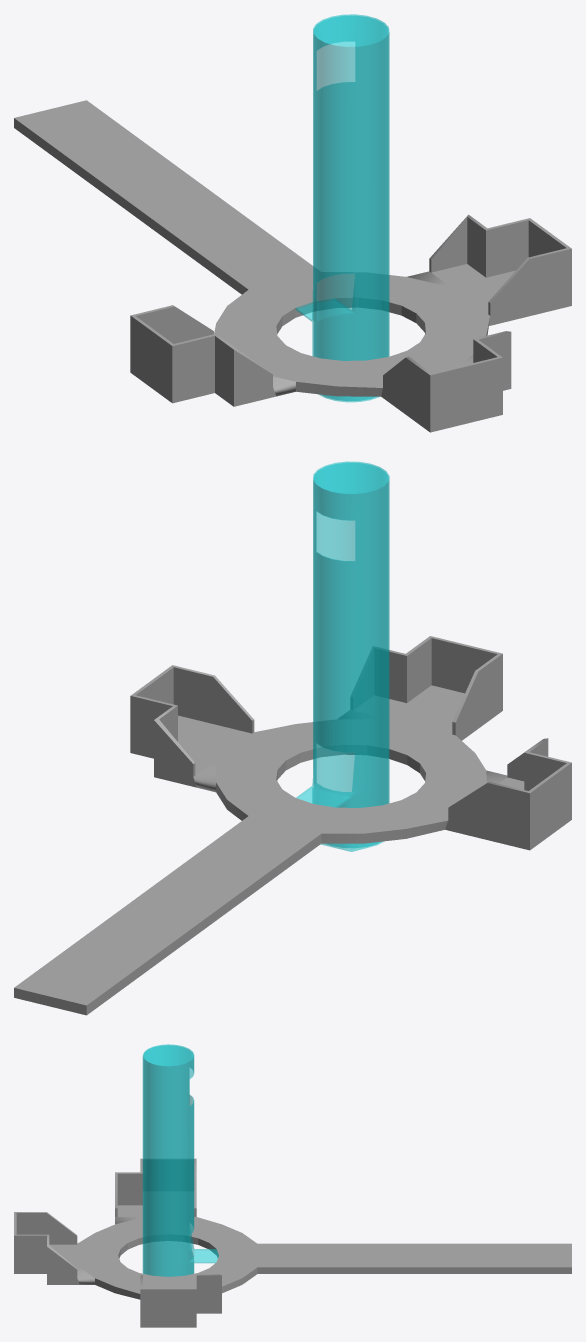
Rendered from Indoor Hub.fbx.
3 renders of one model, top to bottom at view 1: azimuth 30°, elevation 25°; view 2: azimuth 150°, elevation 25°; view 3: azimuth 270°, elevation 25°, orthographic. The views are drawn at different scales.
Parts seen in each view (by area): view 1: Inner_hub, Elevator_shaft; view 2: Inner_hub, Elevator_shaft; view 3: Inner_hub, Elevator_shaft.
Boxes of the visible parts, bbox=[...] form: Inner_hub: bbox=[14, 100, 571, 432]; Elevator_shaft: bbox=[295, 14, 389, 402]; Inner_hub: bbox=[14, 636, 571, 1015]; Elevator_shaft: bbox=[296, 461, 389, 851]; Inner_hub: bbox=[14, 1158, 571, 1327]; Elevator_shaft: bbox=[142, 1044, 218, 1276].
Size of the model in its own units: 30.84 by 26.23 by 55.65.
